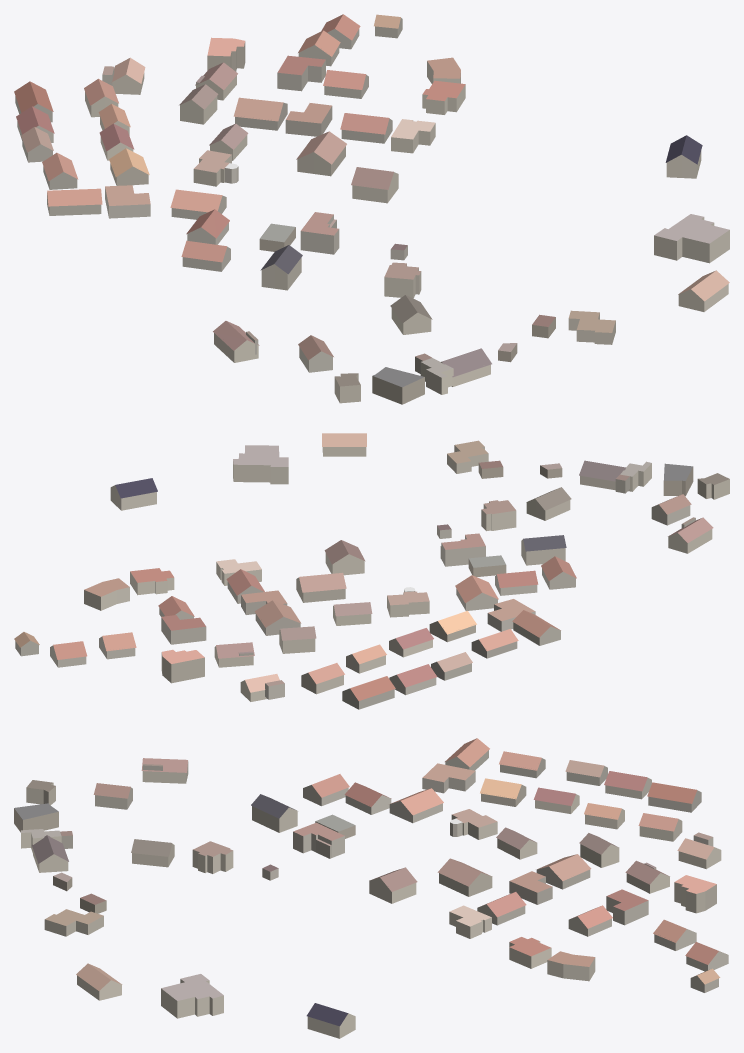
3 views of the same model, one above another, from view 1: azimuth 30°, elevation 25°; view 2: azimuth 150°, elevation 25°; view 3: azimuth 270°, elevation 25° (orthographic). The views are drawn at different scales.
Visible parts, largest first — view 1: tuile; view 2: tuile; view 3: tuile.
Boxes of the visible parts, box(x1,y1,x2,y2) form: tuile: box(14, 14, 729, 404); tuile: box(14, 433, 729, 709); tuile: box(14, 738, 728, 1038).
Bounding box in the file's own units: 220 × 23.14 × 261.
